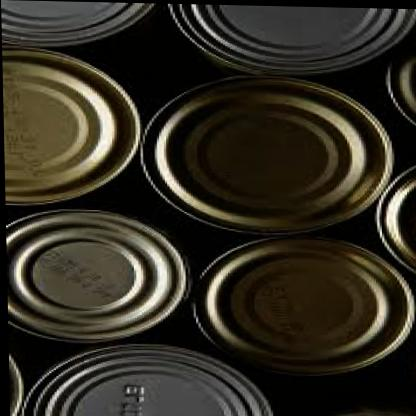Metal: (7, 3, 416, 416)
